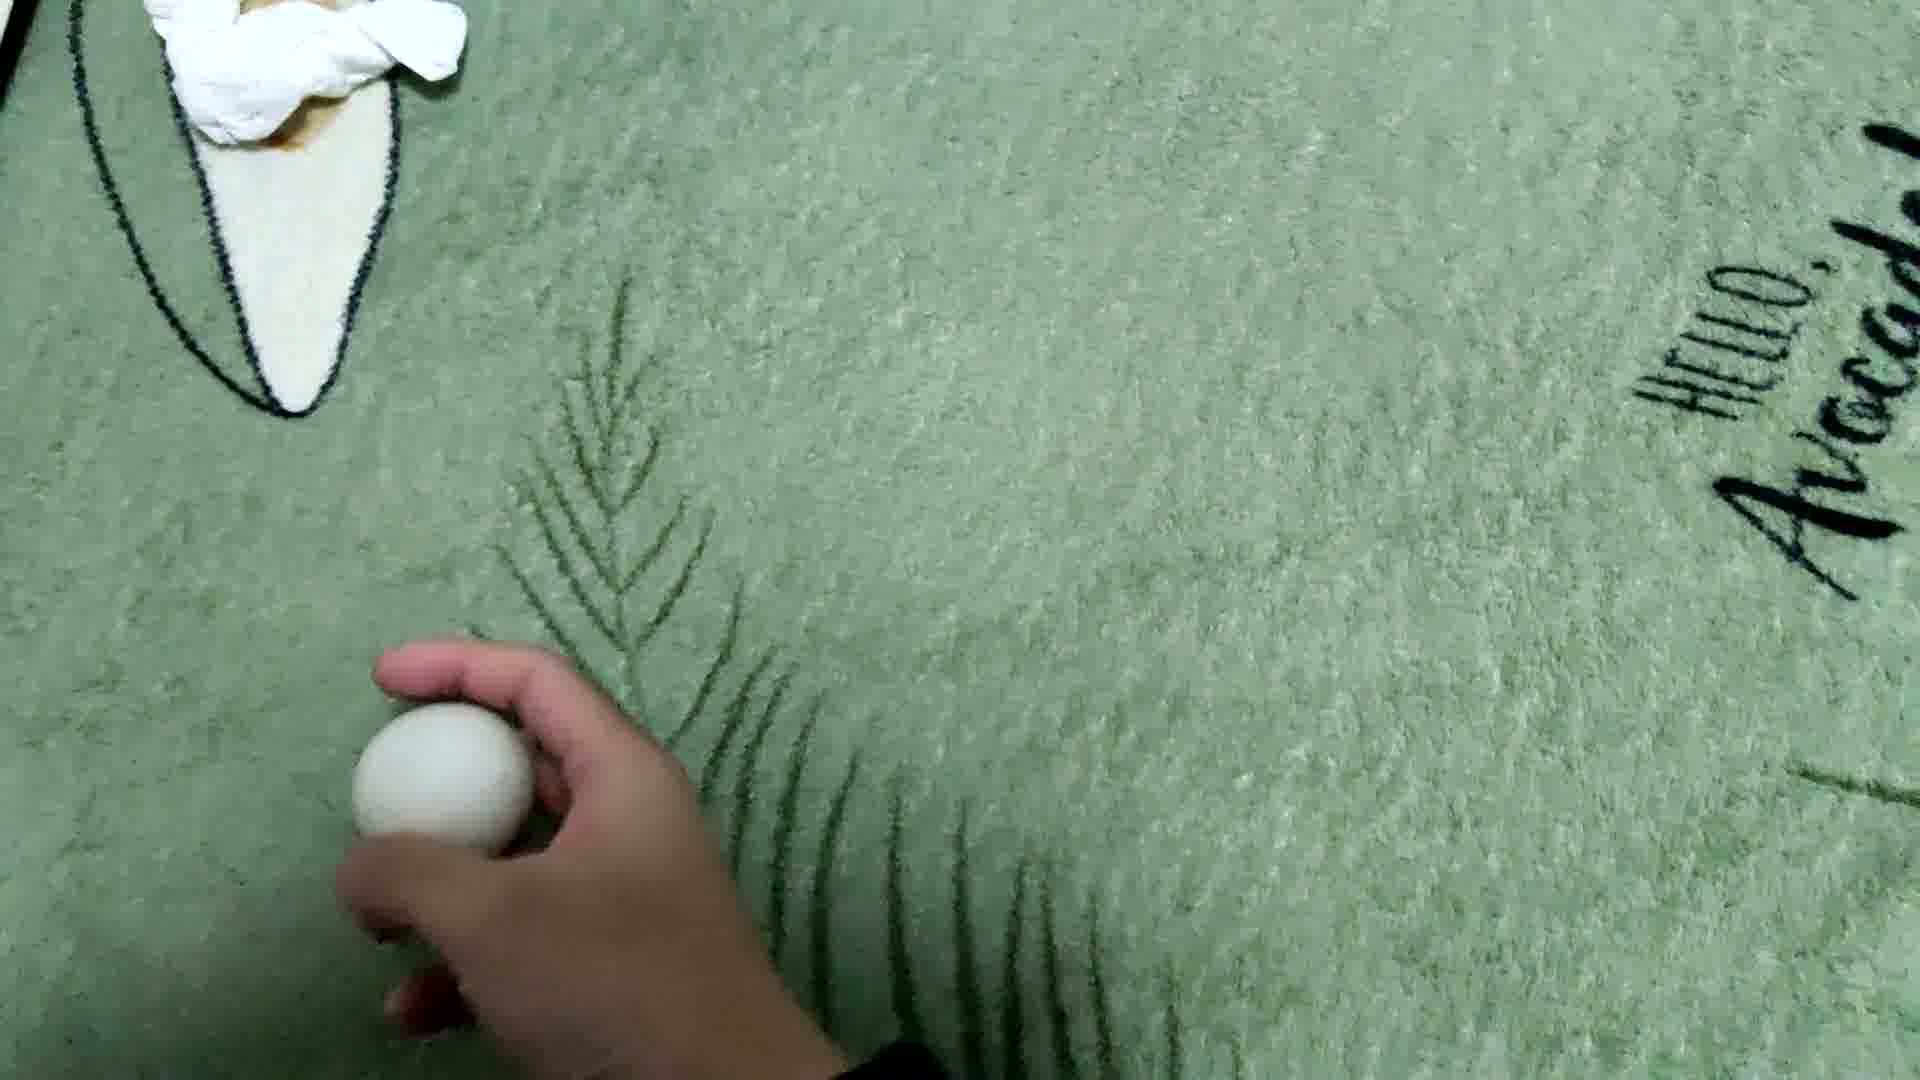Ball: (353, 698, 538, 862)
